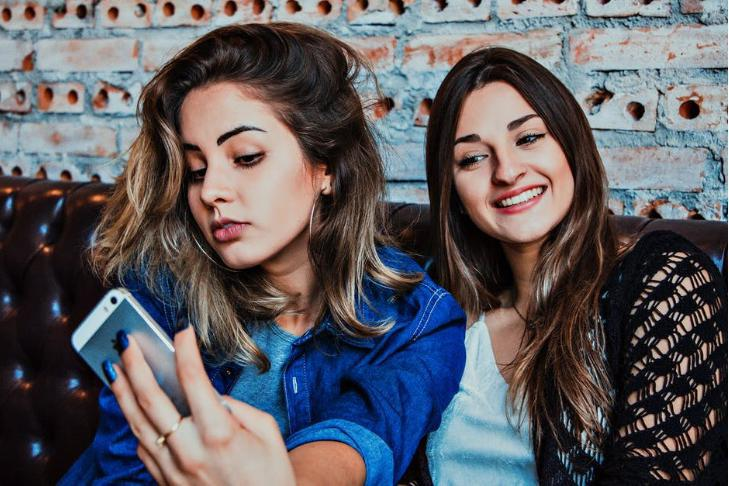face: (176, 87, 317, 267), (452, 81, 576, 240)
